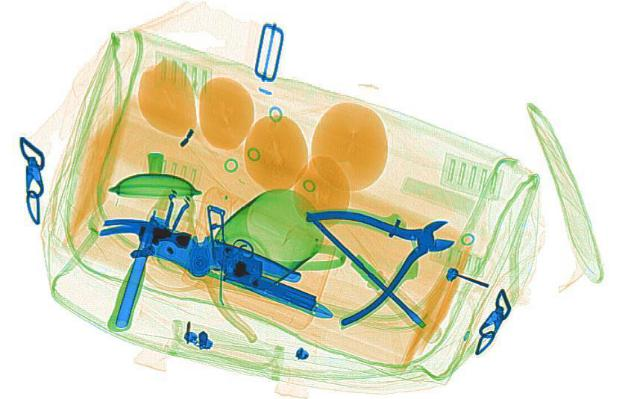Gun: (150, 200, 346, 323)
Pliers: (275, 186, 495, 325)
